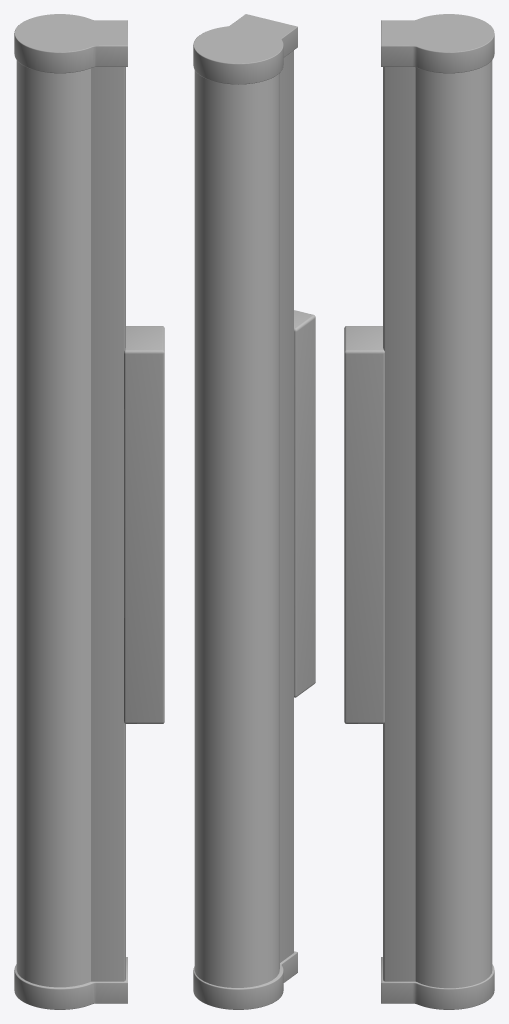
Rendered from SM_SM_light_WallSnap_01A_V3.fbx.
3 renders of one model, left to right at view 1: azimuth 90°, elevation 25°; view 2: azimuth 150°, elevation 25°; view 3: azimuth 270°, elevation 25°, orthographic.
Visible parts, largest first — view 1: SM_SM_light_WallSnap_01A_V3; view 2: SM_SM_light_WallSnap_01A_V3; view 3: SM_SM_light_WallSnap_01A_V3.
Part boxes in pixels (left/top/right/bottom): SM_SM_light_WallSnap_01A_V3: left=14, top=14, right=164, bottom=1009; SM_SM_light_WallSnap_01A_V3: left=193, top=14, right=315, bottom=1009; SM_SM_light_WallSnap_01A_V3: left=344, top=14, right=494, bottom=1009.
Size of the model in its own units: 5.2 by 8.56 by 60.19.
2 materials, 1 textured.
